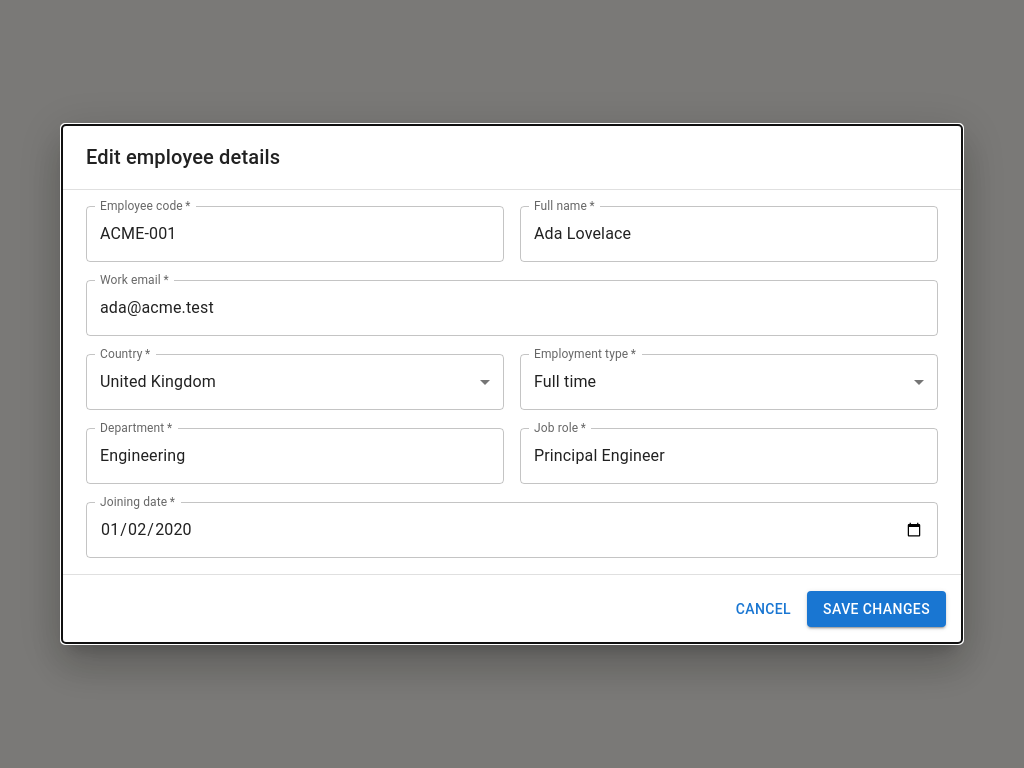
Test case: EmployeeFormDialog › explains duplicate employee conflicts without stale-record guidance
Click the button "Save changes" at [877, 609], box [807,591,946,627]
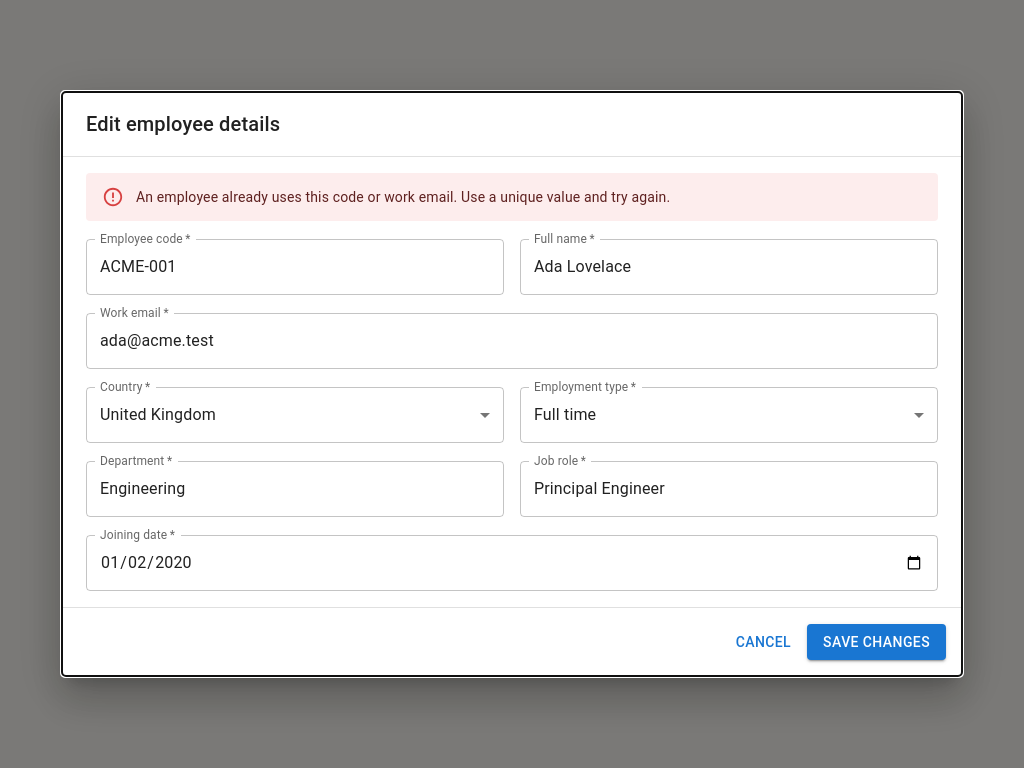
Expected: the text "already uses this code or work email" is shown, [136,189,670,205]
